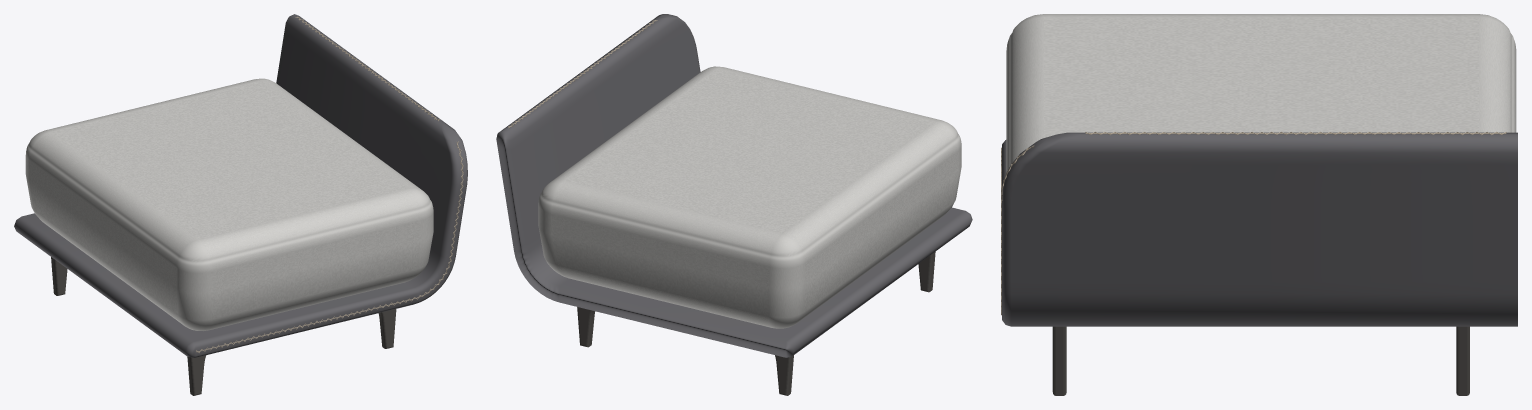
The model's file is own120Ott.glb.
3 renders of one model, left to right at view 1: azimuth 30°, elevation 25°; view 2: azimuth 150°, elevation 25°; view 3: azimuth 270°, elevation 25°, orthographic. The views are drawn at different scales.
Size of the model in its own units: 0.8497 by 0.5815 by 0.8967.
5 materials, 1 textured.
